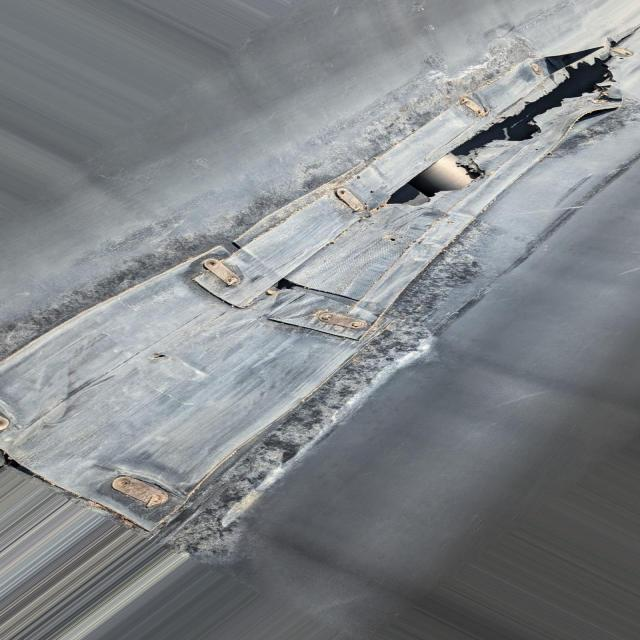Hole: (386, 55, 606, 204)
patch work: (0, 47, 625, 536)
